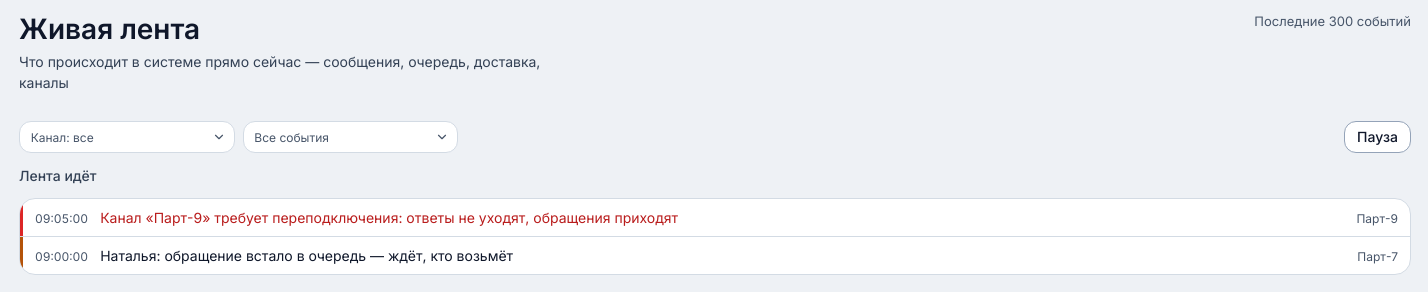
Scenario: Экран живой ленты › отбор по каналу собран из того, что лента видела, и сужает её
The width and height of the screenshot is (1428, 292).
Click the field named "Фильтр по каналу" at [127, 137], box [19,121,235,153]
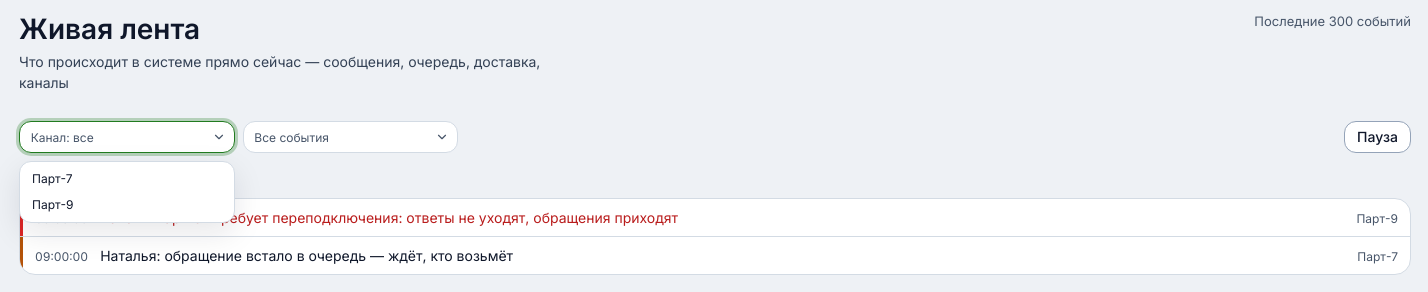
Click the option "Парт-9" at [53, 204], box [32,197,74,212]
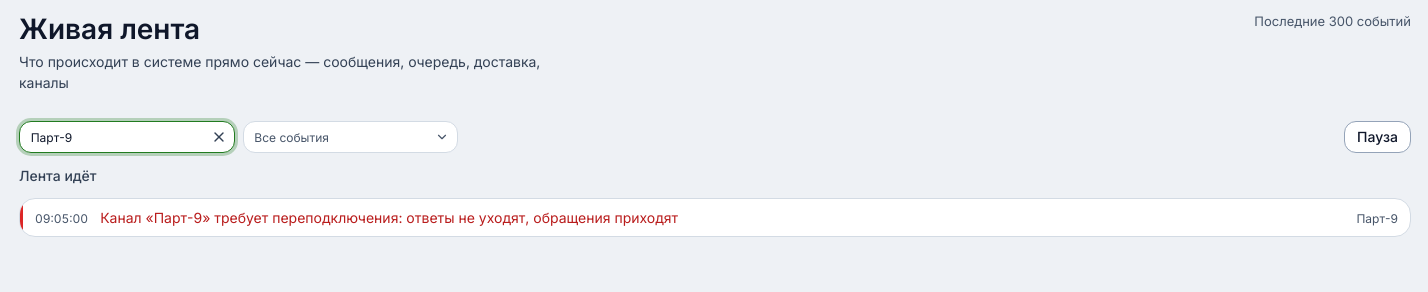
Check: the text "Канал «Парт-9» требует переподключения" is shown, box [100,209,678,226]
Check: the link "обращение встало в очередь" is gone
